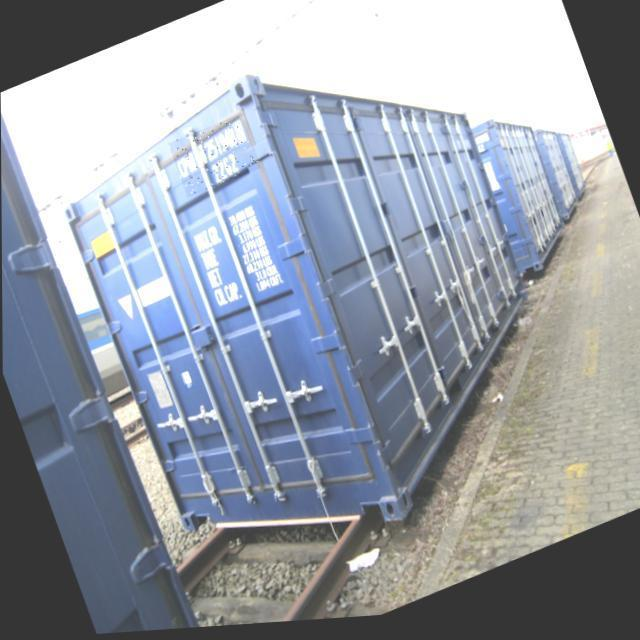container_number_h: (167, 115, 261, 201)
